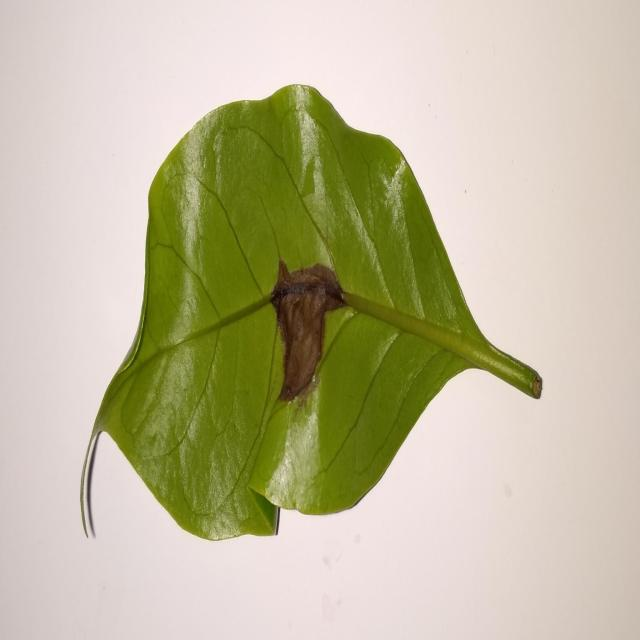Enfermedad-Antracnosis: (79, 85, 543, 546)
